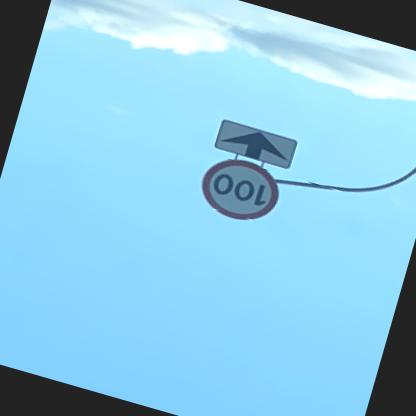speedlimit: (195, 152, 287, 230)
